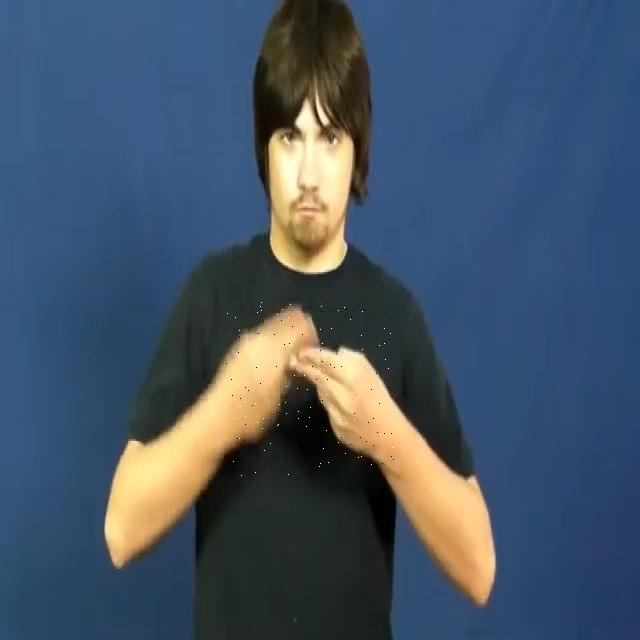spoon: (224, 300, 394, 476)
